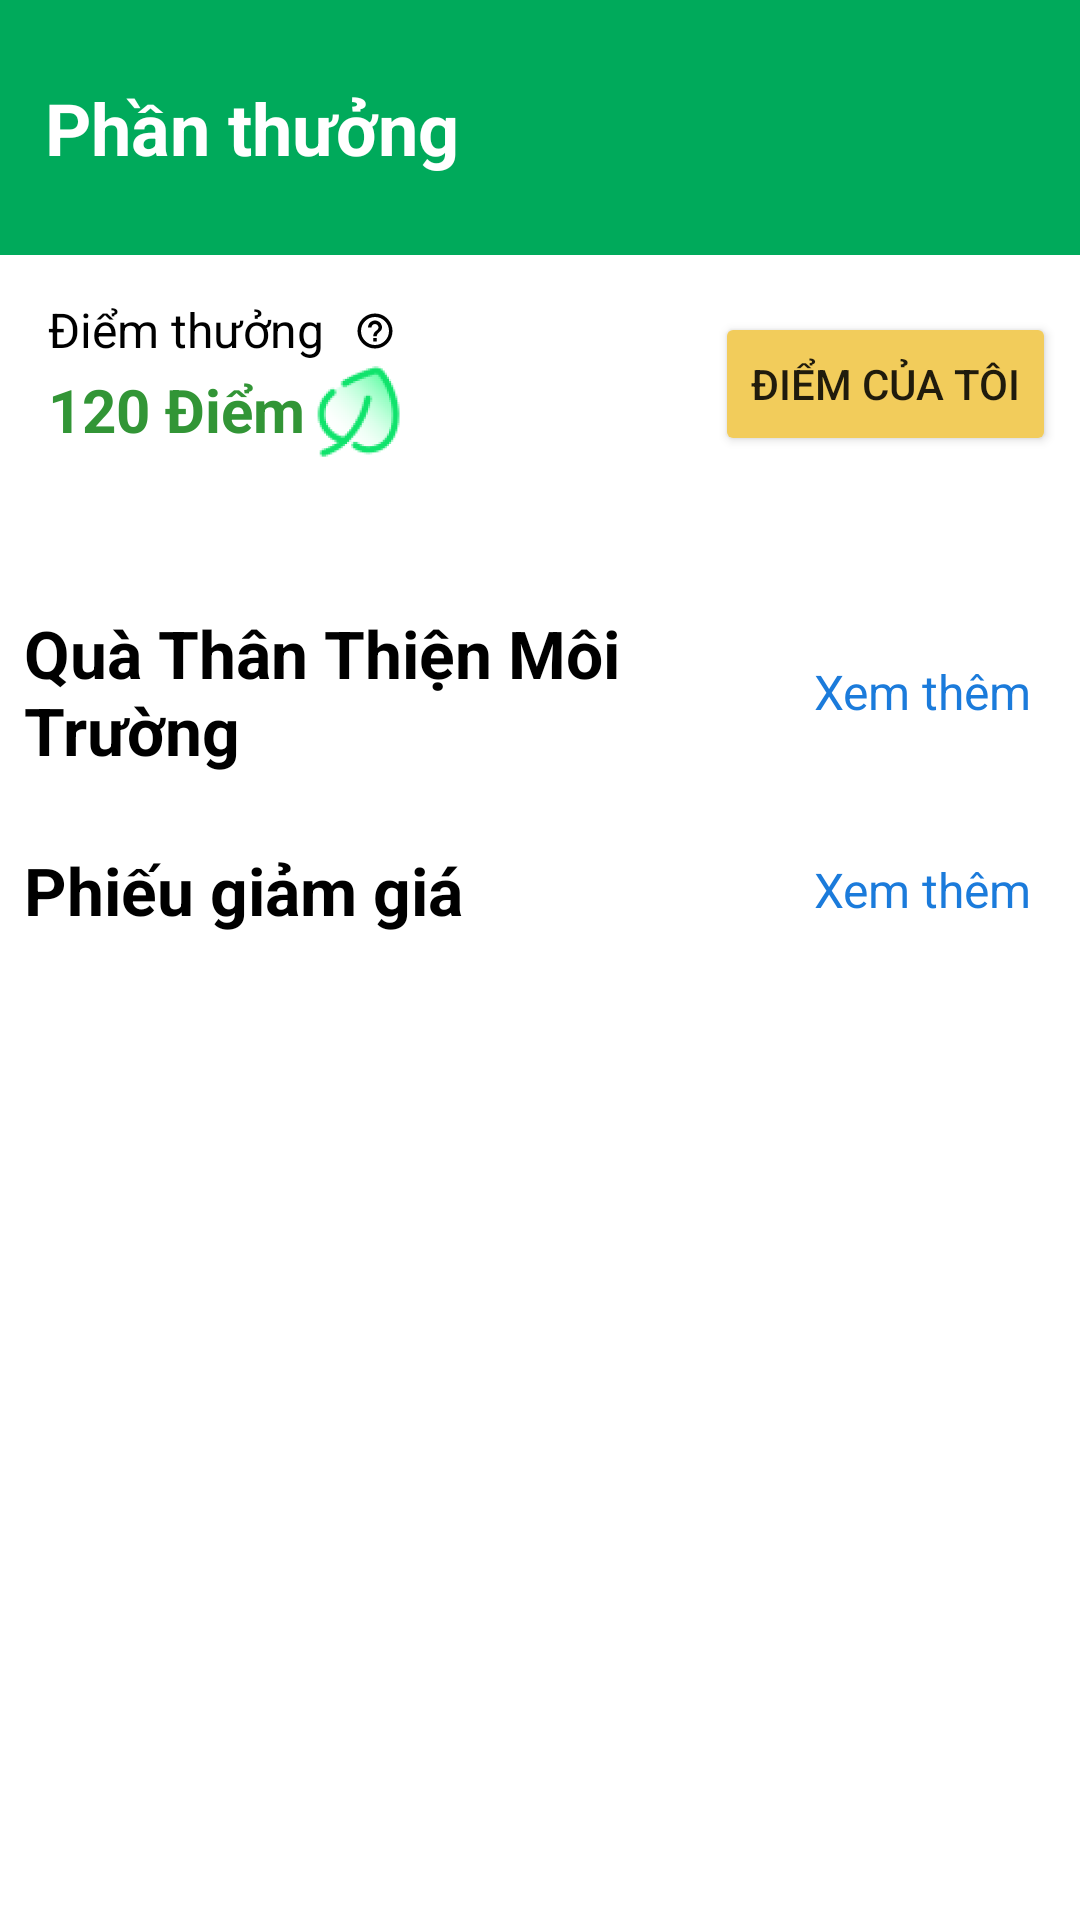

Locate icon controls on the screen. Image size 1080 x 1920, boxes as (x1, y1, x2, y2).
leaf: (317, 366, 400, 457)
